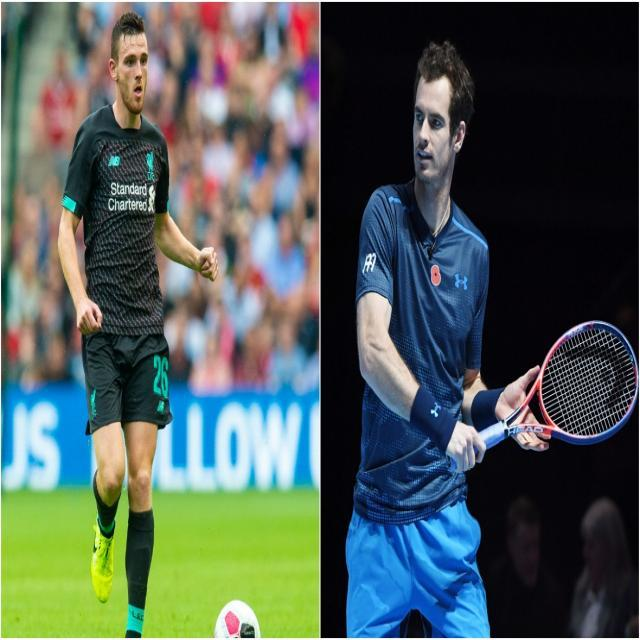Standard Chartered: (108, 181, 156, 214)
